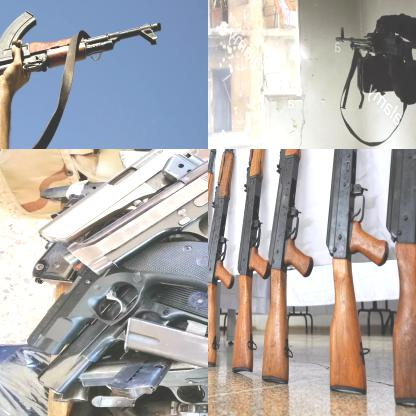pistol: (36, 263, 207, 401), (27, 230, 207, 351), (63, 149, 207, 278), (34, 149, 207, 243), (79, 351, 207, 415)
rifle: (324, 149, 390, 400), (259, 149, 323, 385), (0, 7, 163, 96), (230, 149, 280, 378), (208, 149, 247, 370), (383, 149, 415, 409), (333, 24, 415, 91), (208, 149, 226, 365)
